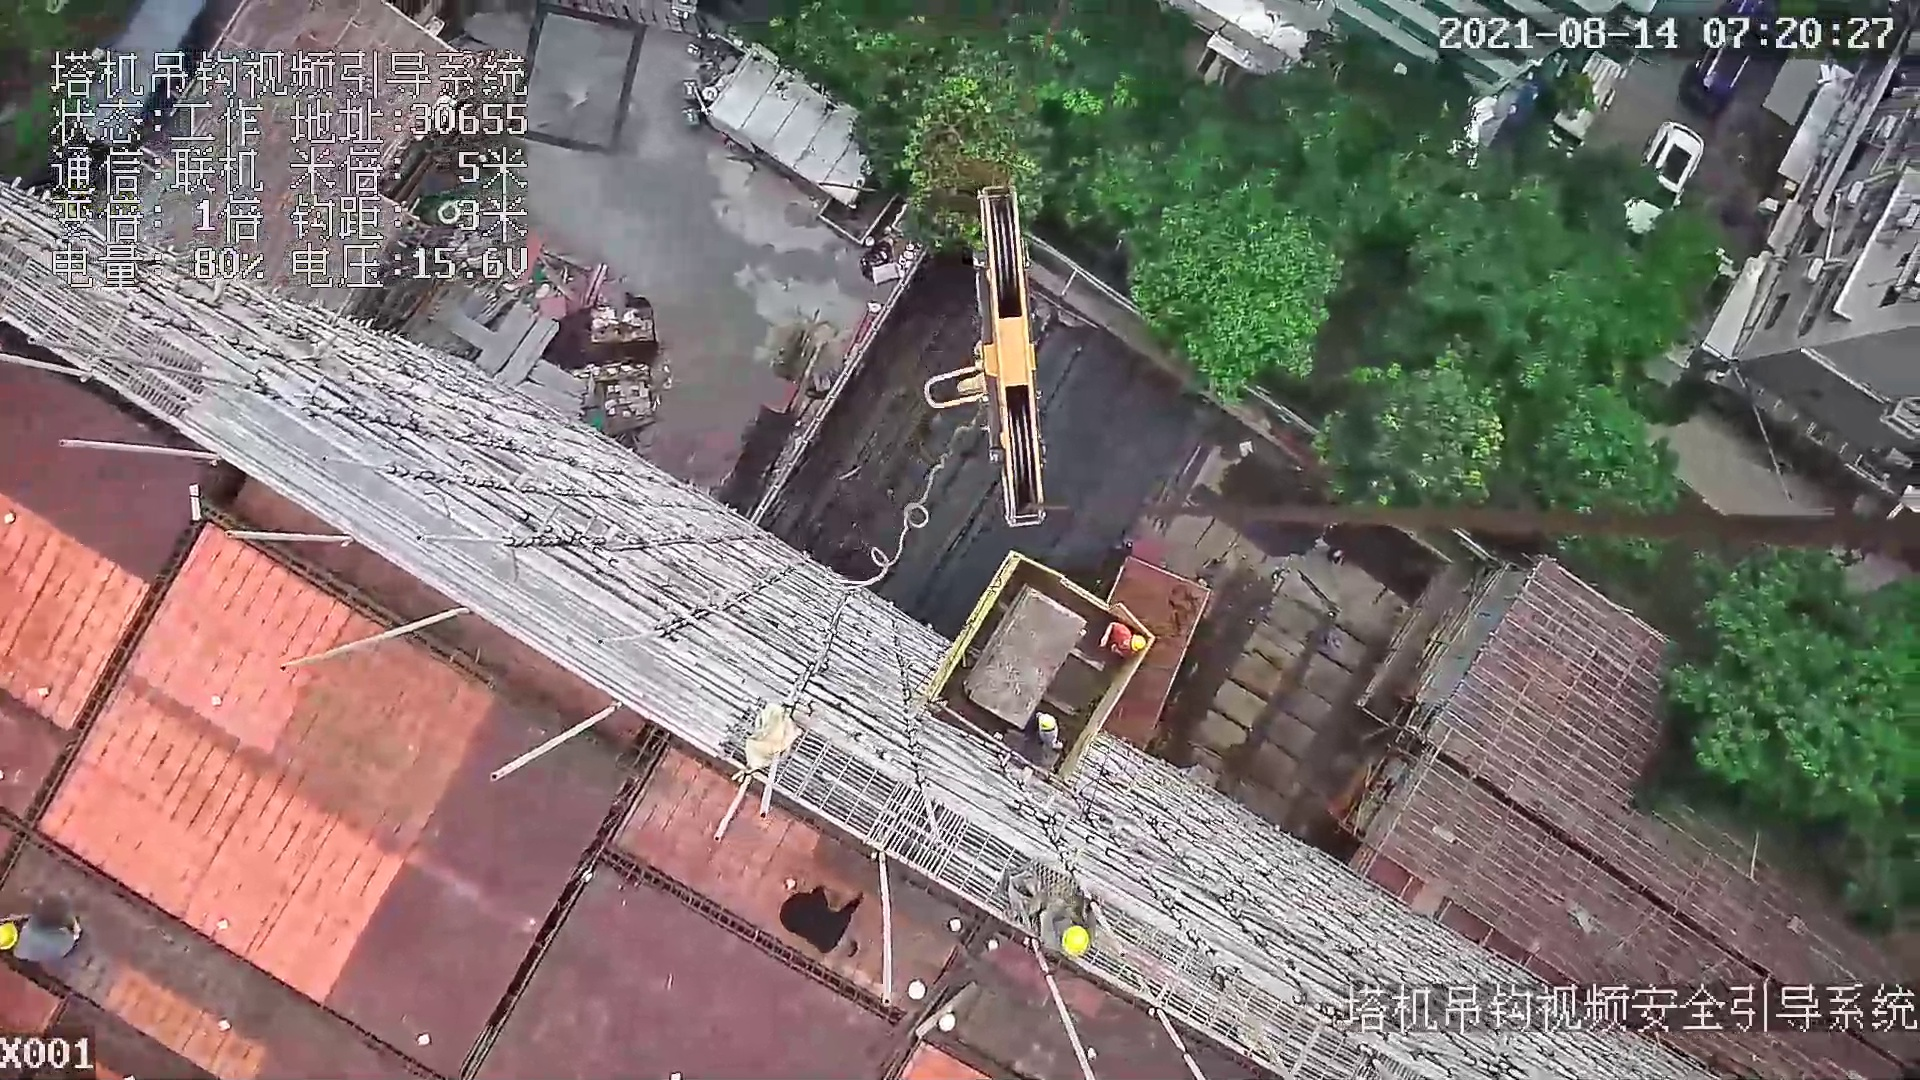helmet: (1057, 923, 1092, 958), (1035, 713, 1060, 733), (1132, 626, 1146, 656)
person: (766, 867, 881, 968), (1032, 889, 1108, 965), (1096, 619, 1154, 663), (1026, 707, 1069, 756)
